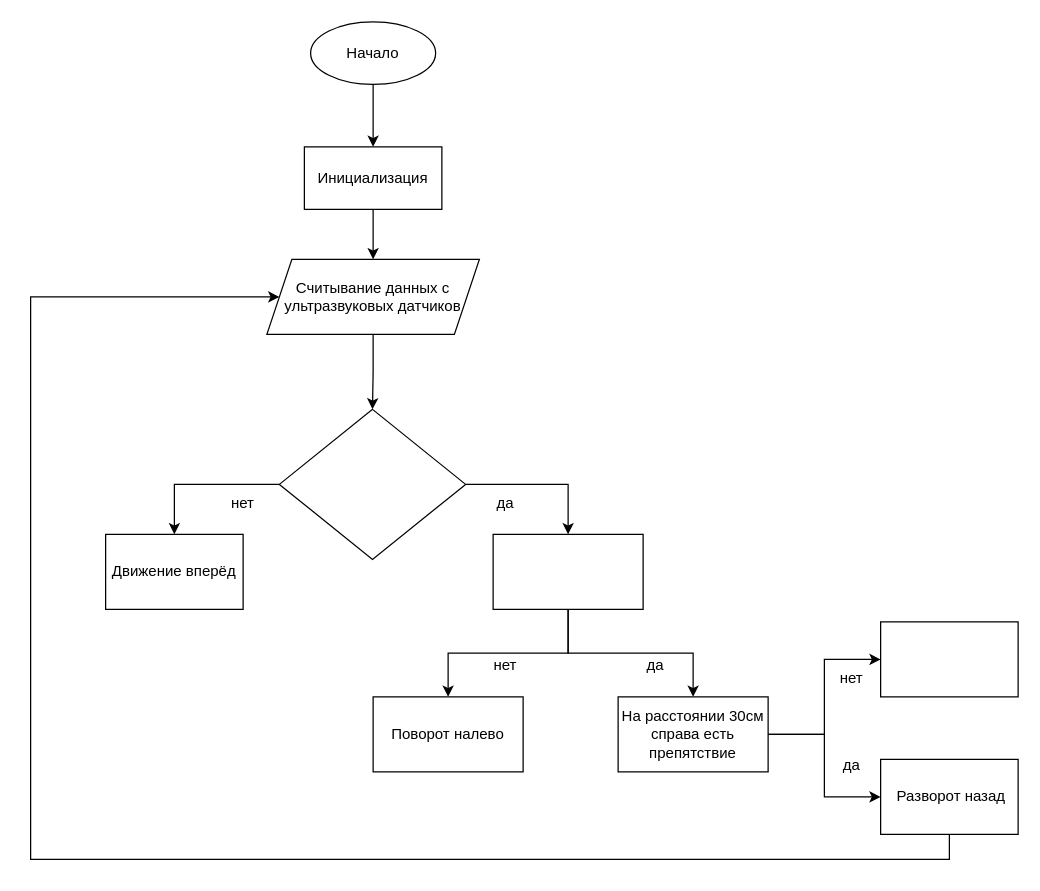
This 1040x891 diagram has some shape labels left out. Here are the shapes that lost their labels. From the top down, the centre of each, then its label:
At (372,483): "На расстоянии 30см спереди есть препятствие".
At (567,571): "На расстоянии 30см слева есть препятствие".
At (948,659): "Поворот направо".
